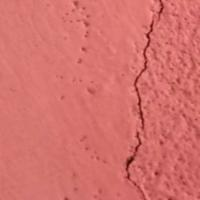crack: (109, 1, 180, 199)
